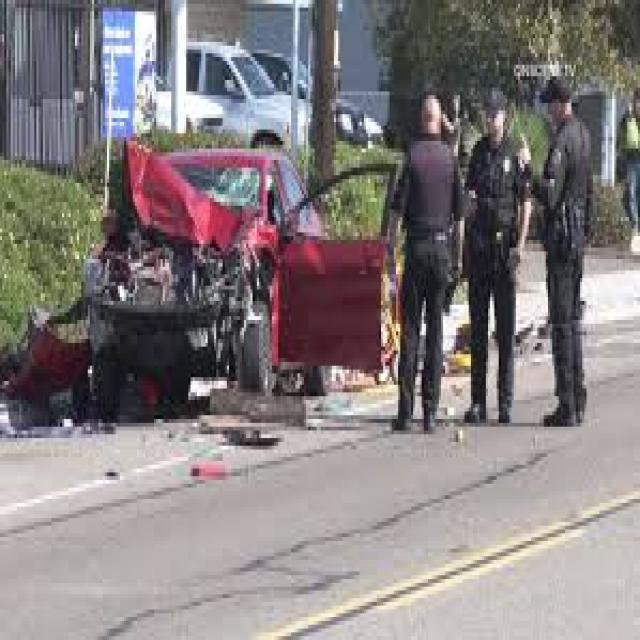accident: (53, 99, 345, 424)
